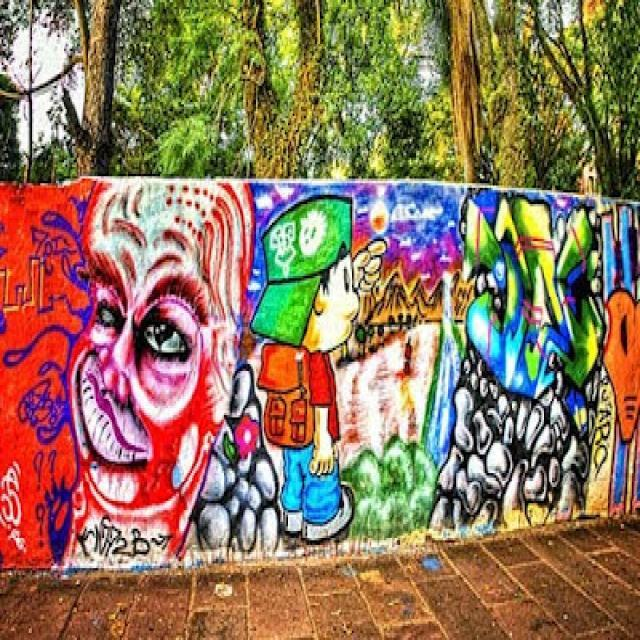-: (1, 181, 640, 568)
